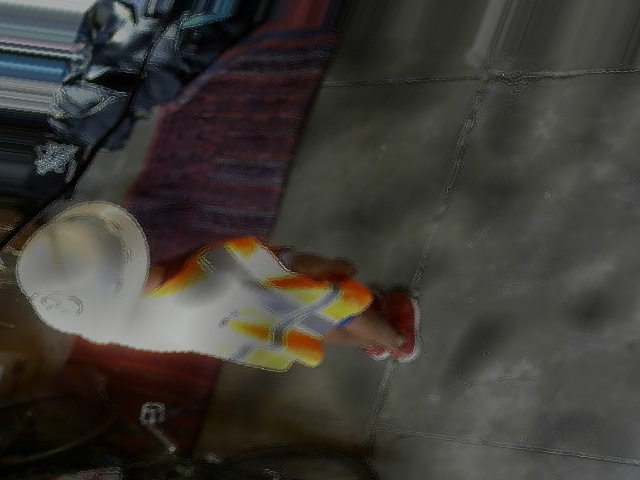eight: (23, 287, 87, 322)
